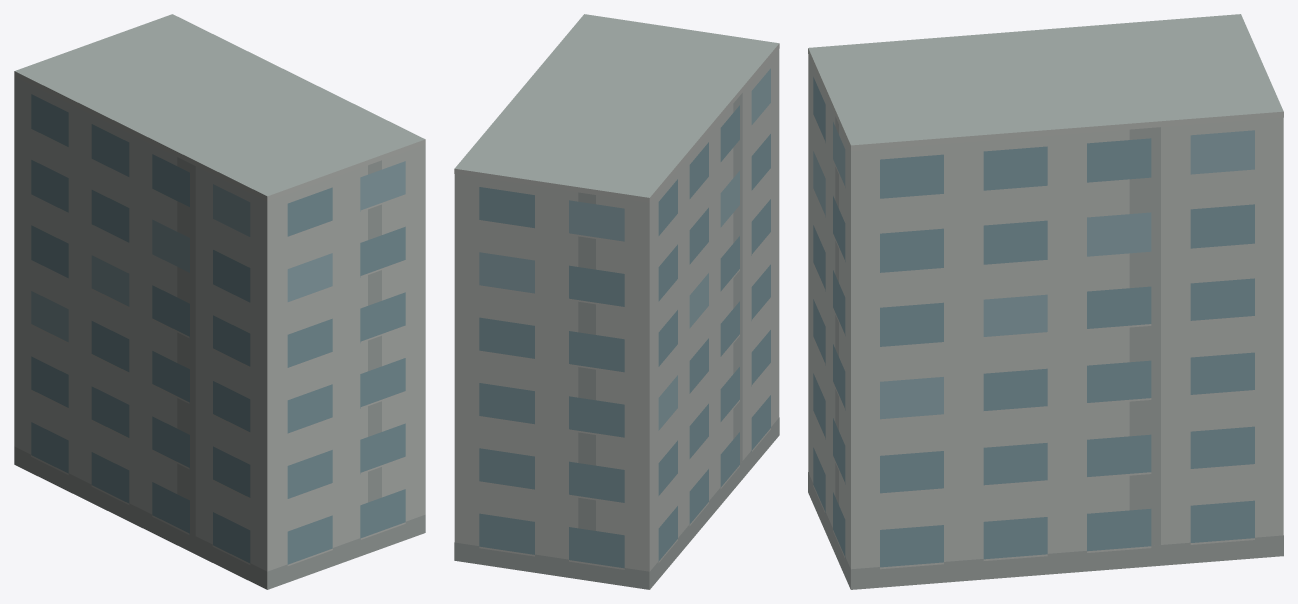
File: survey-upis-32995107.glb
3 renders of one model, left to right at view 1: azimuth 30°, elevation 25°; view 2: azimuth 150°, elevation 25°; view 3: azimuth 270°, elevation 25°, orthographic. The views are drawn at different scales.
Parts seen in each view (by area): view 1: survey-upis-32995107.tmp; view 2: survey-upis-32995107.tmp; view 3: survey-upis-32995107.tmp.
Part boxes in pixels (x1,y1,x2,y2): survey-upis-32995107.tmp: (14, 14, 425, 589); survey-upis-32995107.tmp: (454, 14, 779, 589); survey-upis-32995107.tmp: (808, 14, 1283, 589).
Size of the model in its own units: 11.61 by 18.3 by 17.76.
